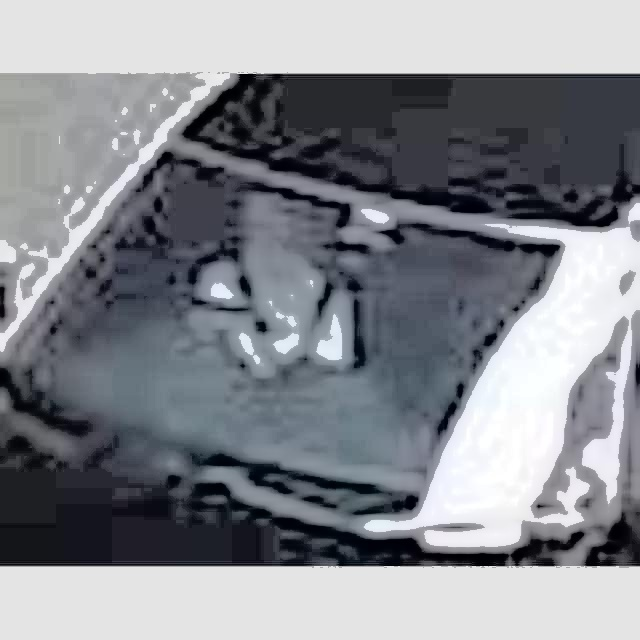pakai: (176, 229, 345, 383)
